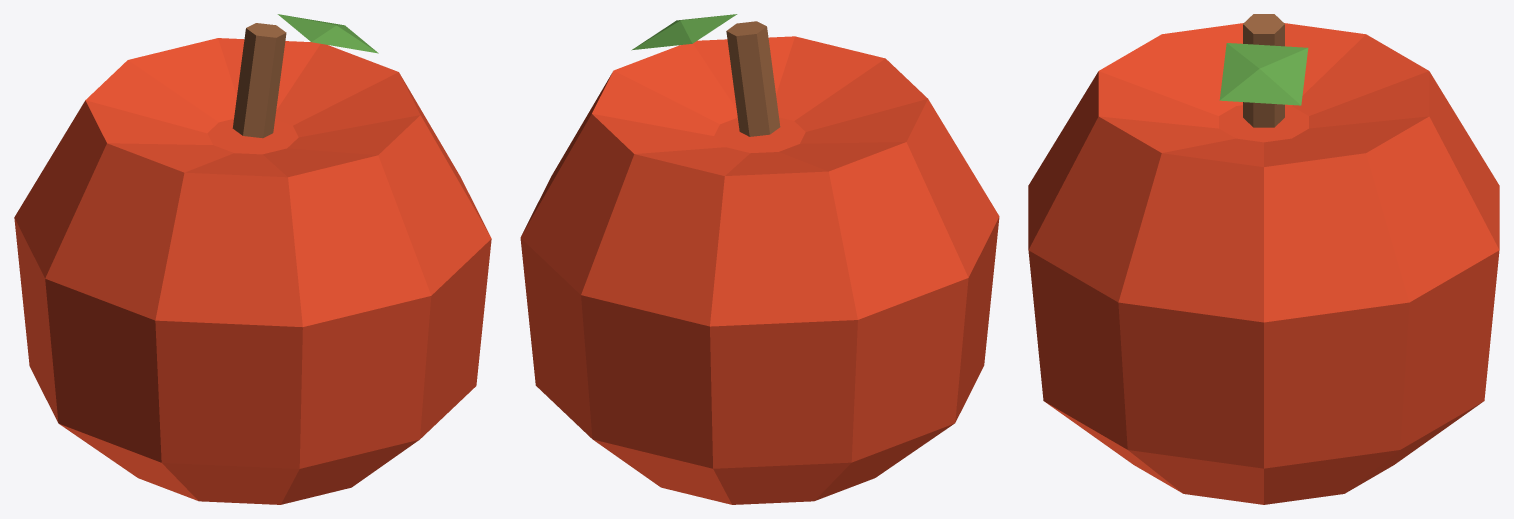
The model's file is apple.glb.
The picture shows the model from 3 angles, left to right: view 1: azimuth 30°, elevation 25°; view 2: azimuth 150°, elevation 25°; view 3: azimuth 270°, elevation 25°; orthographic projection. The views are drawn at different scales.
Parts seen in each view (by area): view 1: apple; view 2: apple; view 3: apple.
Boxes of the visible parts, left/top/right/bottom form: apple: left=14, top=14, right=491, bottom=504; apple: left=520, top=14, right=999, bottom=504; apple: left=1028, top=14, right=1499, bottom=504.
Bounding box in the file's own units: 0.094 × 0.0945 × 0.0894.
